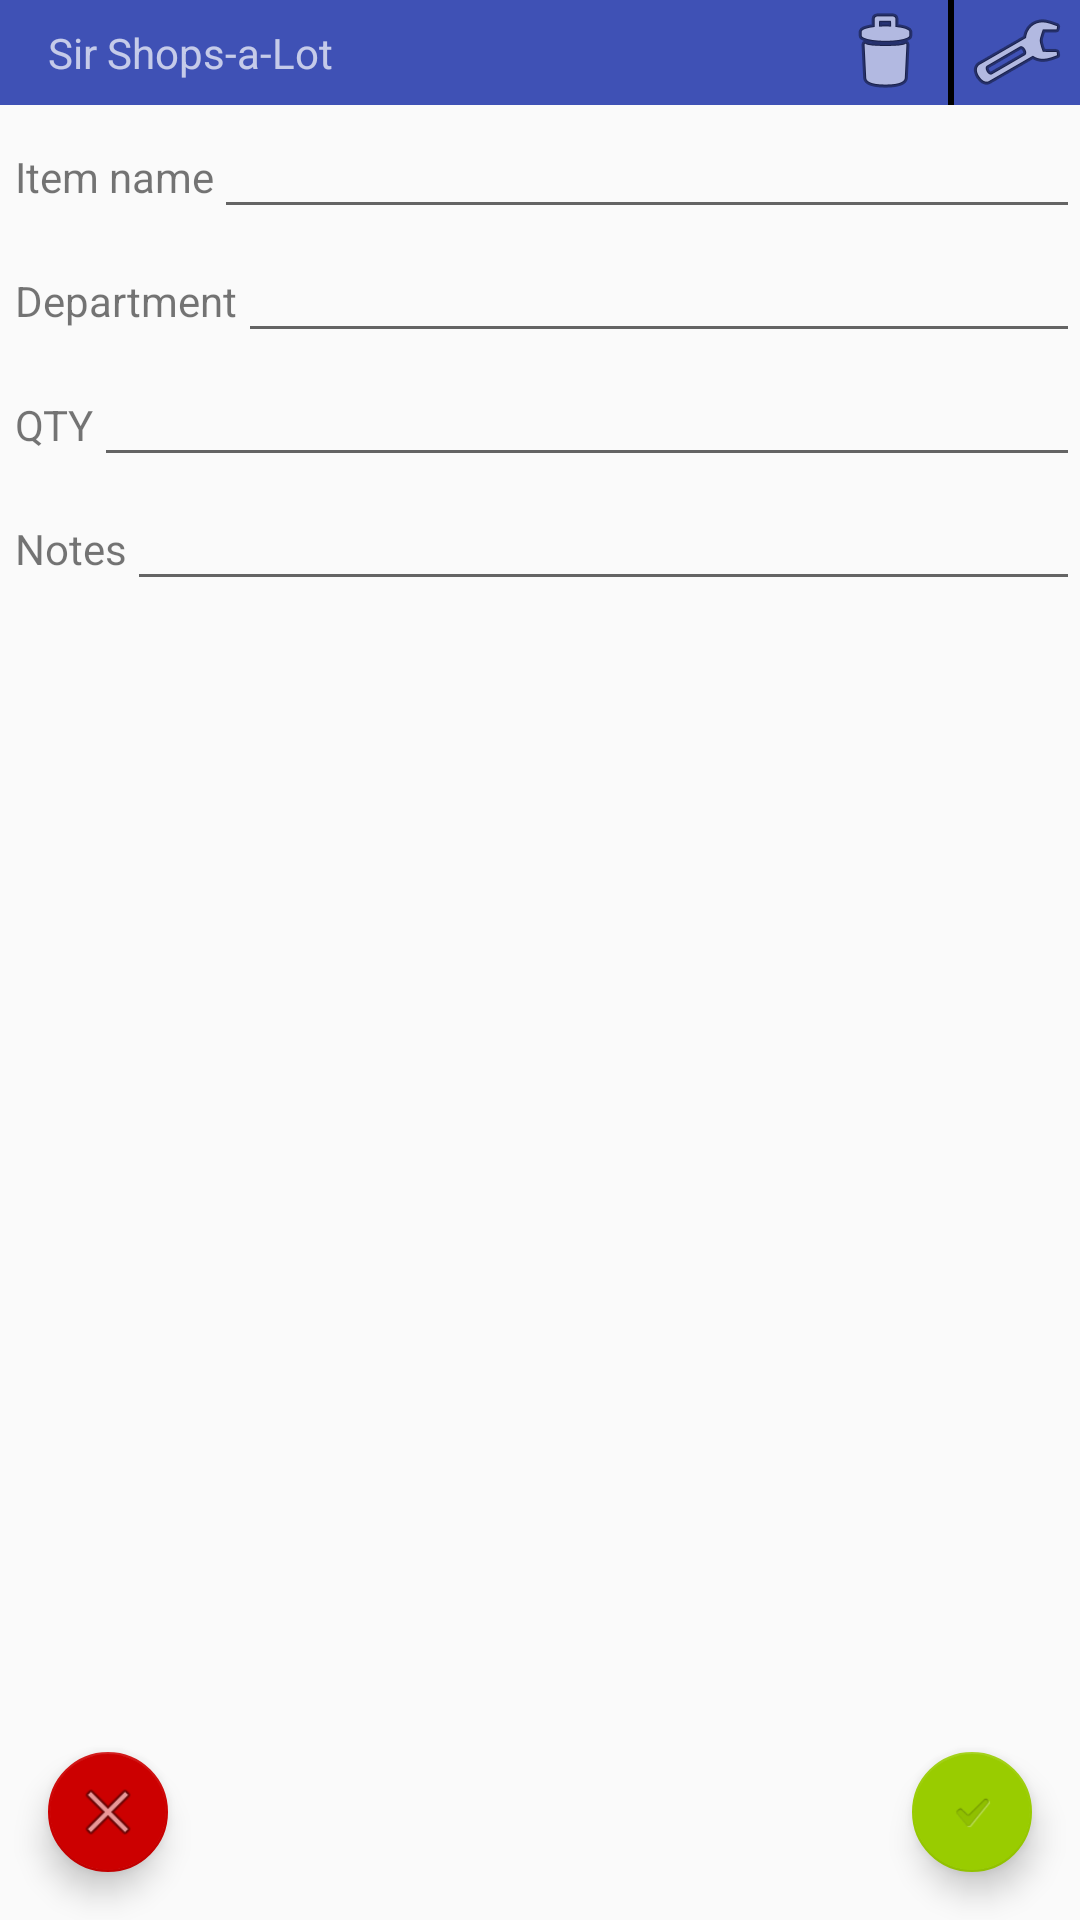

Icon bounding boxes for this 1080×1920 phone screenshot, format box(x1, y1, x2, y2):
close clear cancel: box(48, 1752, 168, 1872)
delete: box(858, 13, 913, 88)
manage: box(974, 19, 1060, 85)
